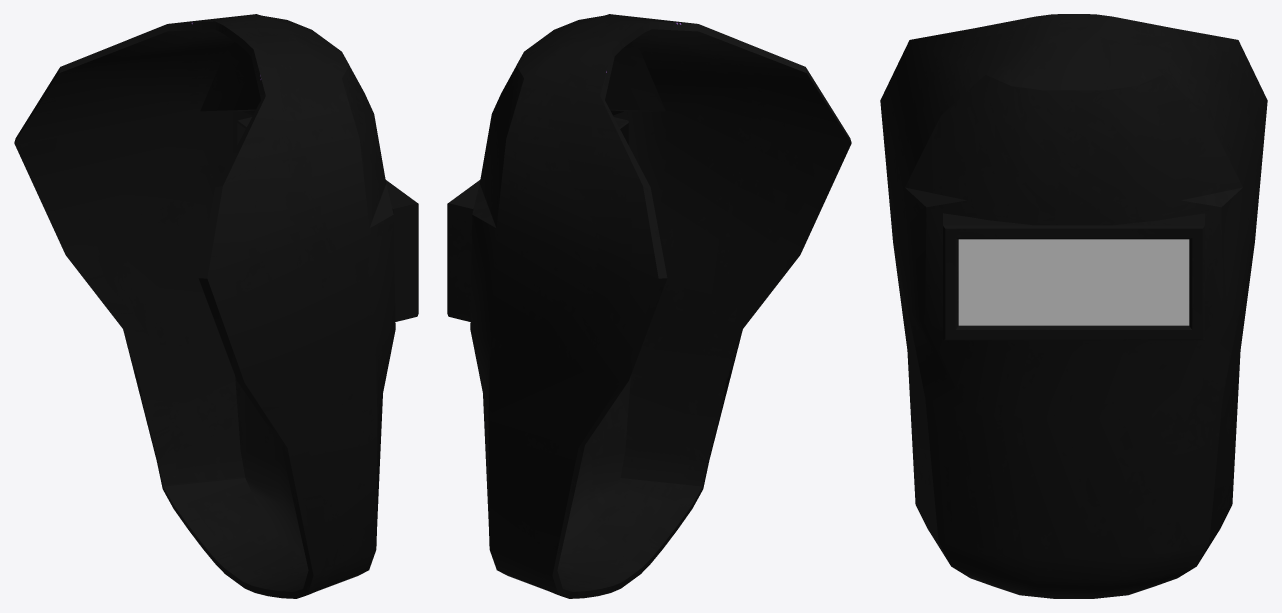
File: Welding Mask.fbx
3 renders of one model, left to right at view 1: azimuth 30°, elevation 25°; view 2: azimuth 150°, elevation 25°; view 3: azimuth 270°, elevation 25°, orthographic.
Parts seen in each view (by area): view 1: Mask.Low; view 2: Mask.Low; view 3: Mask.Low.
Part boxes in pixels (box(x1,y1,x2,y2)): Mask.Low: box(14, 14, 418, 598); Mask.Low: box(447, 14, 851, 598); Mask.Low: box(880, 14, 1267, 598).
Size of the model in its own units: 231 by 487 by 309.
Materials: 2 (1 with a texture image).
